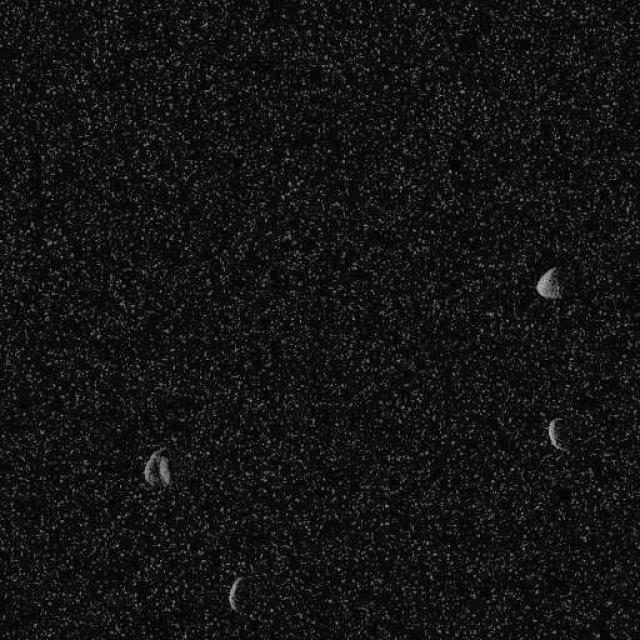D2: (142, 446, 172, 489), (534, 265, 562, 300), (546, 417, 569, 452), (226, 575, 246, 613)
